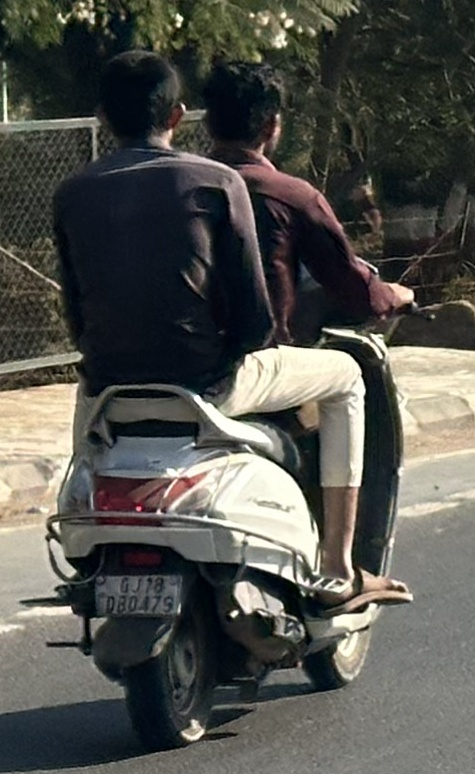BikeWithRider: (15, 35, 447, 756)
NoHelmet: (82, 40, 200, 158), (190, 50, 290, 158)
